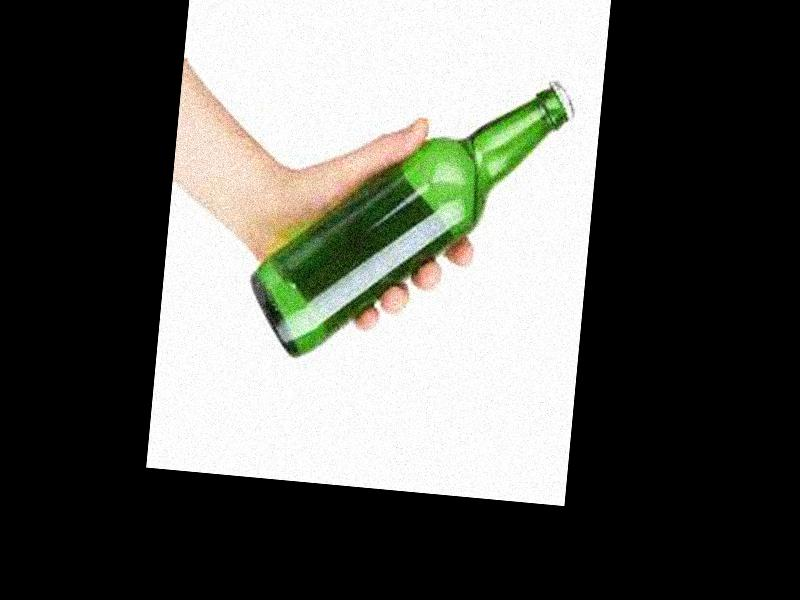Beer: (239, 54, 572, 377)
